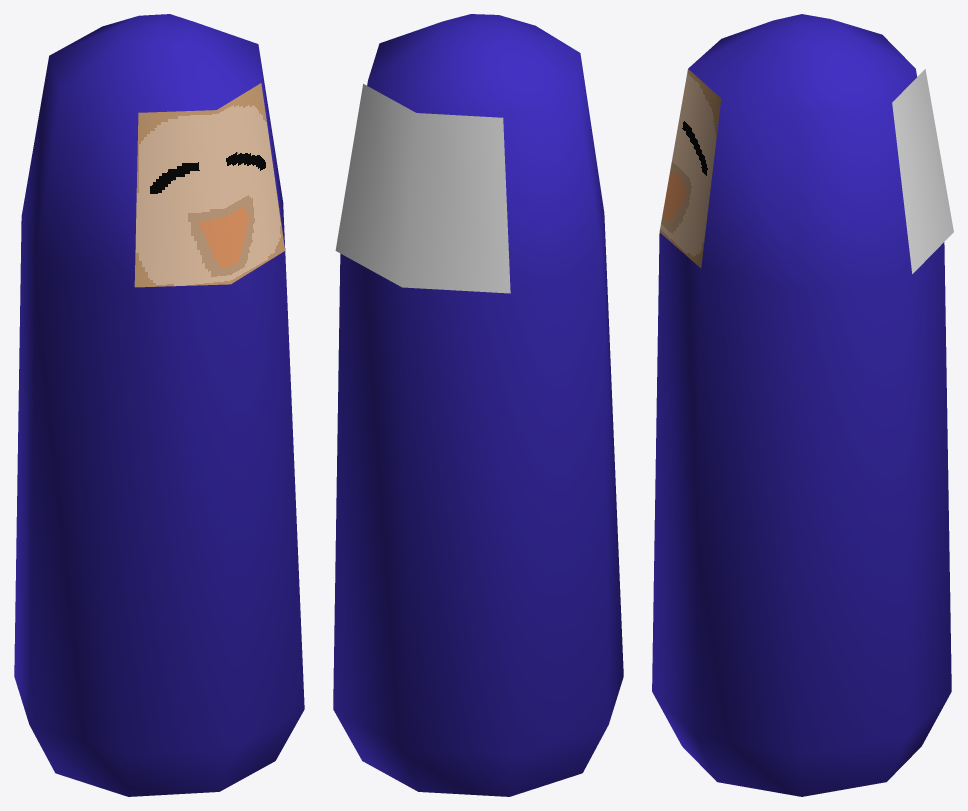
The model's file is OTA_N_04.glb.
3 views of the same model, side by side, from view 1: azimuth 30°, elevation 25°; view 2: azimuth 150°, elevation 25°; view 3: azimuth 270°, elevation 25° (orthographic).
Parts seen in each view (by area): view 1: FRAME_ROOT; view 2: FRAME_ROOT; view 3: FRAME_ROOT.
Part boxes in pixels (x1,y1,x2,y2): FRAME_ROOT: (14, 14, 304, 796); FRAME_ROOT: (333, 14, 623, 796); FRAME_ROOT: (652, 14, 953, 796).
Bounding box in the file's own units: 1.28 × 3.4 × 1.29.
Materials: 3 (3 with a texture image).
